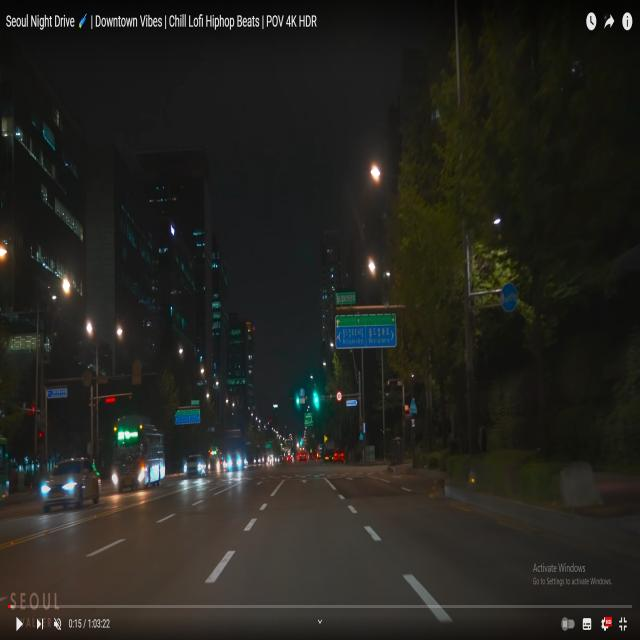headlights: (106, 463, 152, 493), (35, 475, 81, 504), (178, 458, 208, 479)
